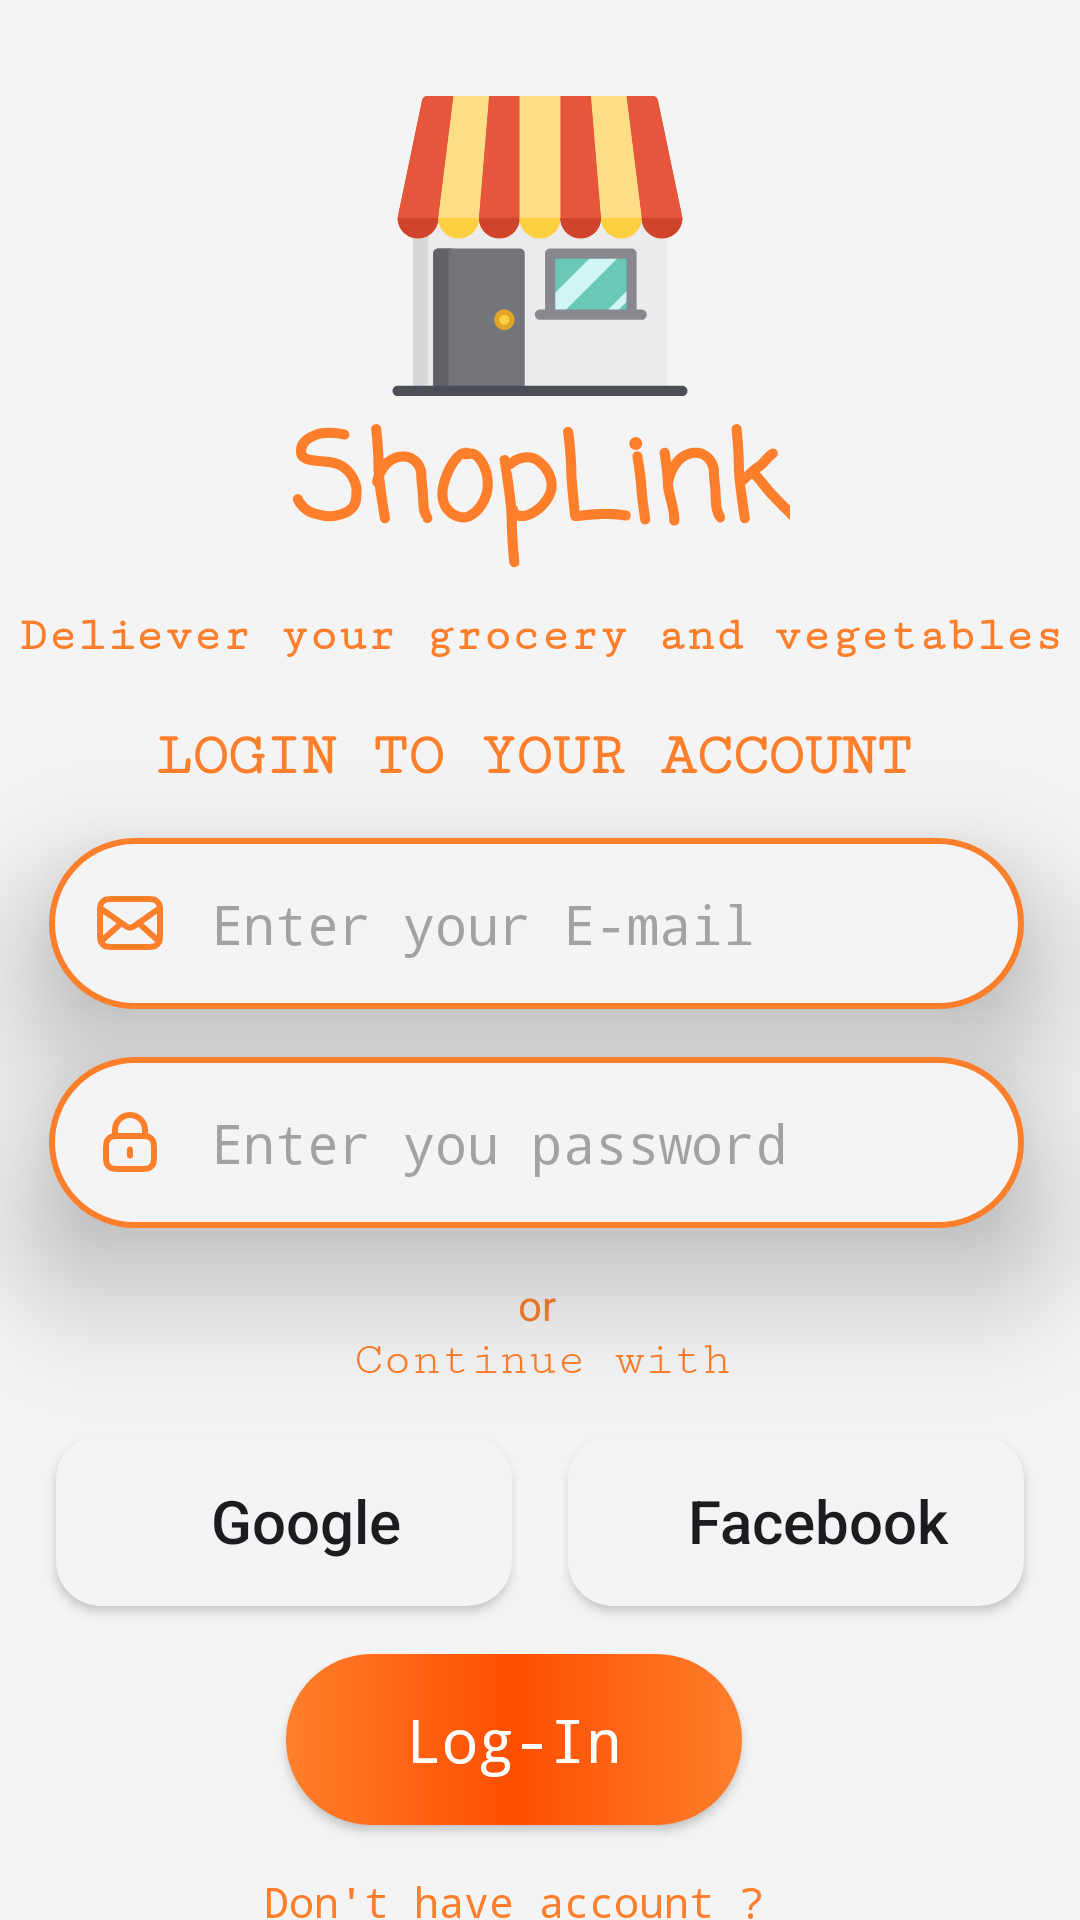

Named icons in this screenshot (1080 x 1920) and their bounding boxes, {"left": x1, "top": y1, "right": x2, "bottom": y2}:
store: {"left": 392, "top": 96, "right": 688, "bottom": 396}
